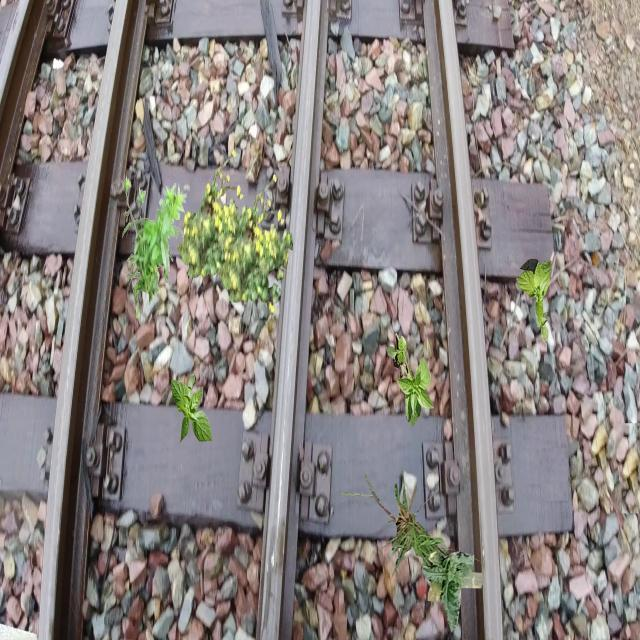Plant: (340, 462, 483, 582), (177, 149, 252, 289), (218, 174, 293, 314), (122, 175, 187, 318), (421, 551, 484, 634), (387, 333, 435, 428), (516, 258, 552, 342), (171, 374, 212, 445)
